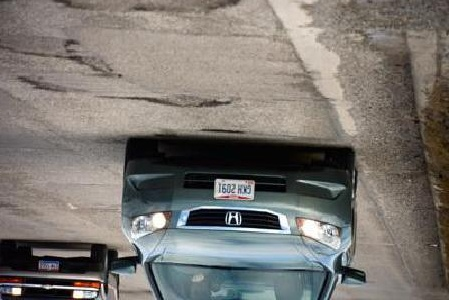pothole: (53, 0, 244, 14), (147, 90, 234, 110)
